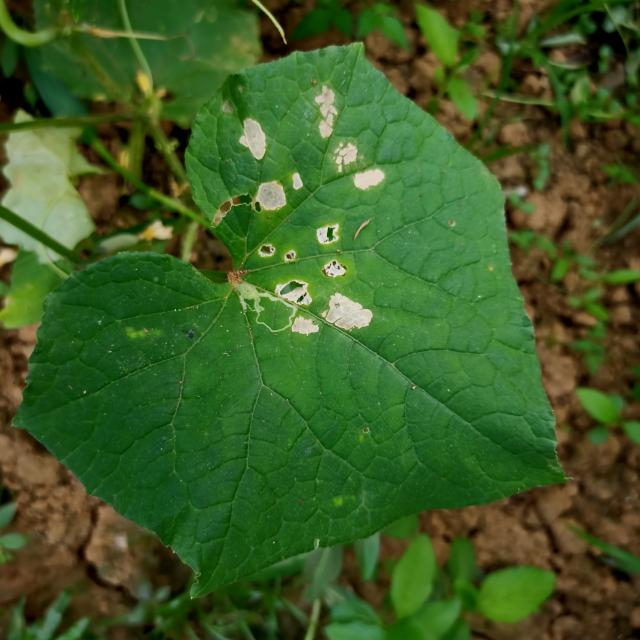disease_cucumber: (278, 223, 372, 336), (316, 84, 383, 189), (239, 118, 302, 211)
